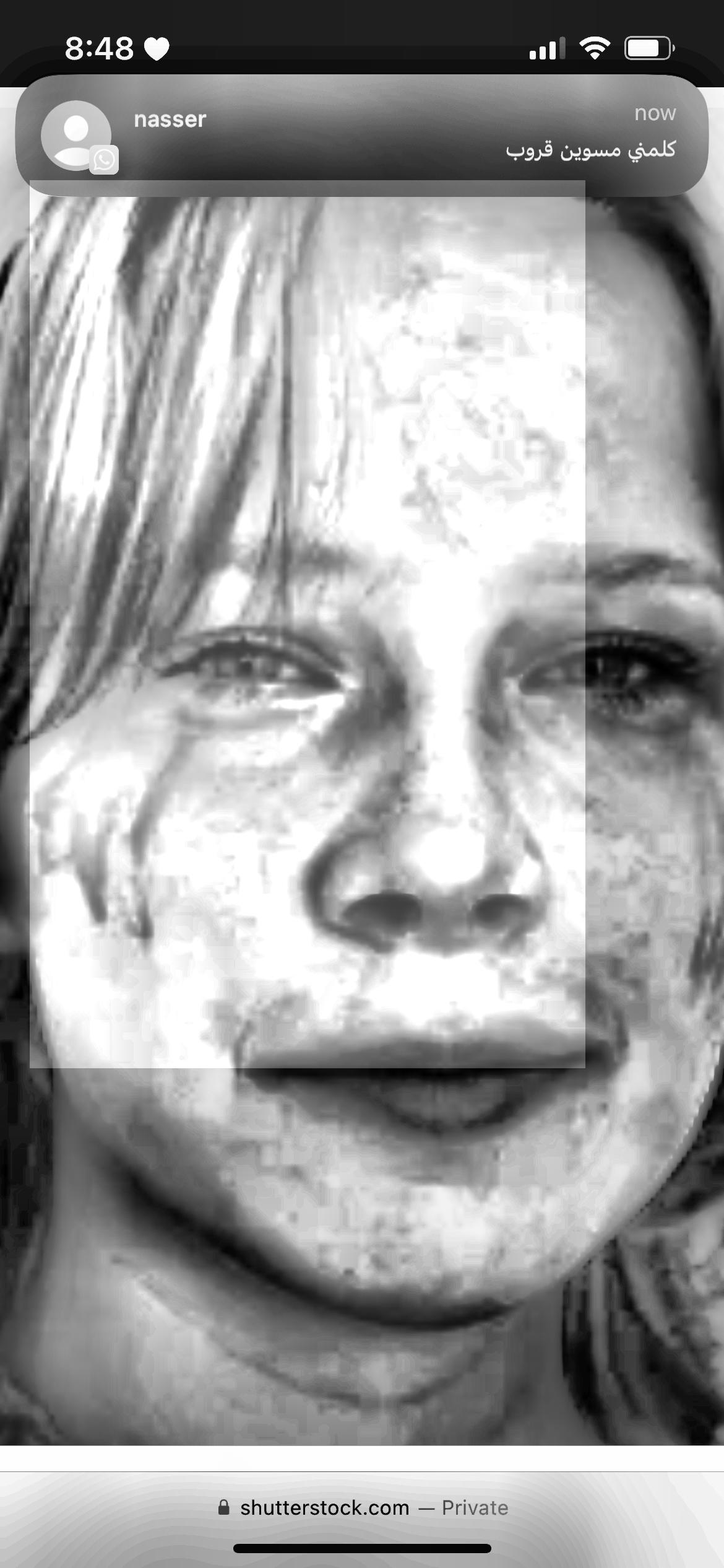sad: (37, 223, 724, 1321)
